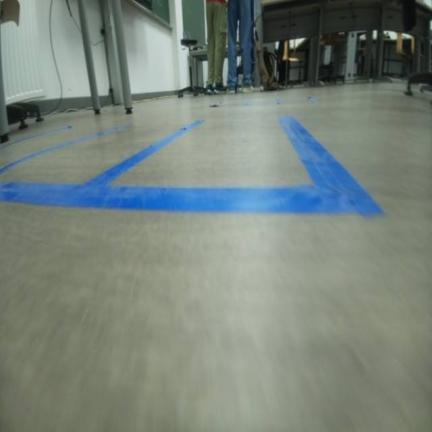place: (62, 115, 385, 212), (0, 118, 204, 211)
